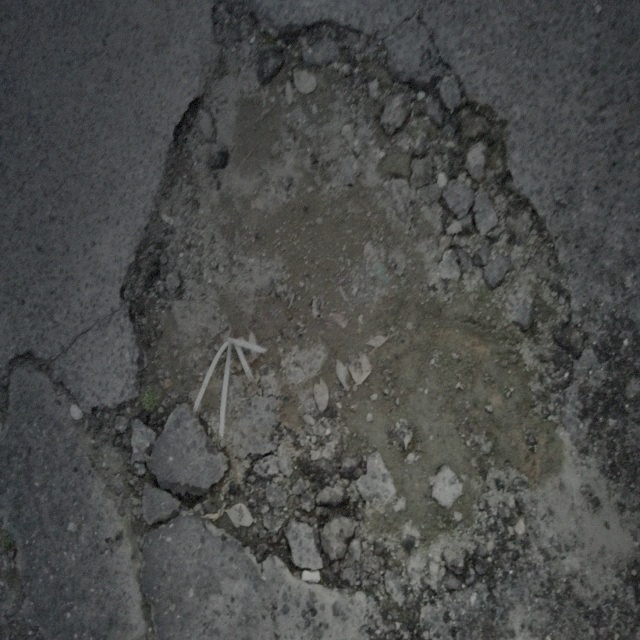pothole: (115, 16, 590, 593)
